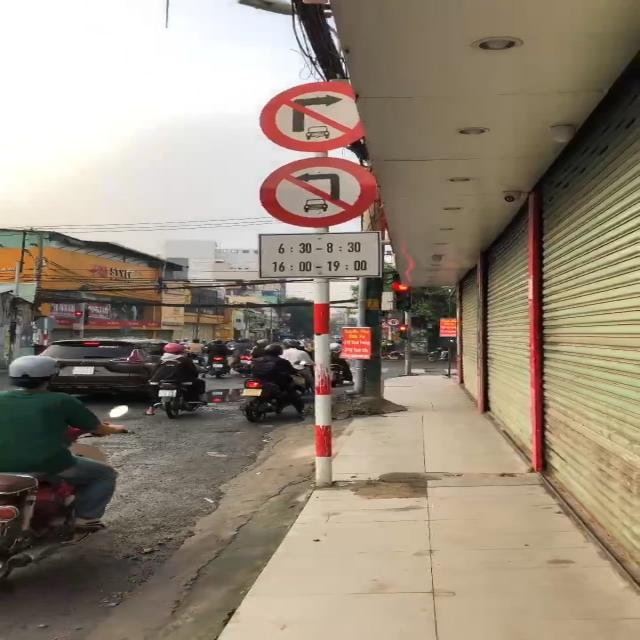Bien bao cam xe o to re phai: (255, 76, 386, 154)
Bien bao cam xe o to re trai: (253, 153, 389, 229)
